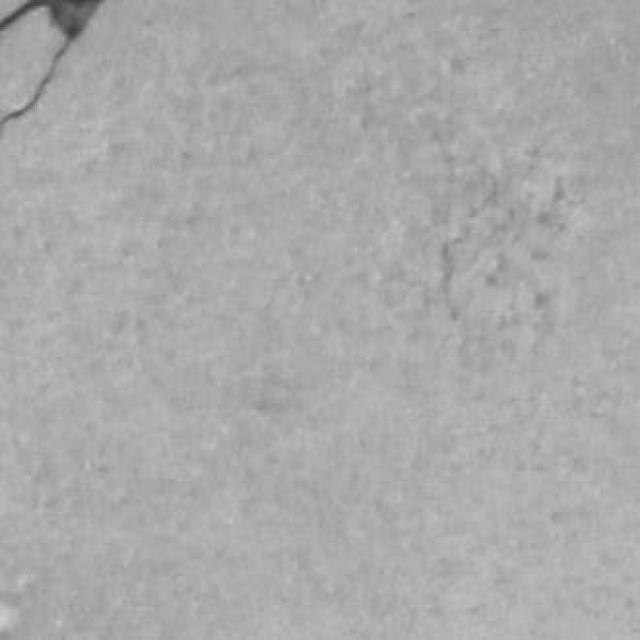crack: (0, 0, 102, 131)
